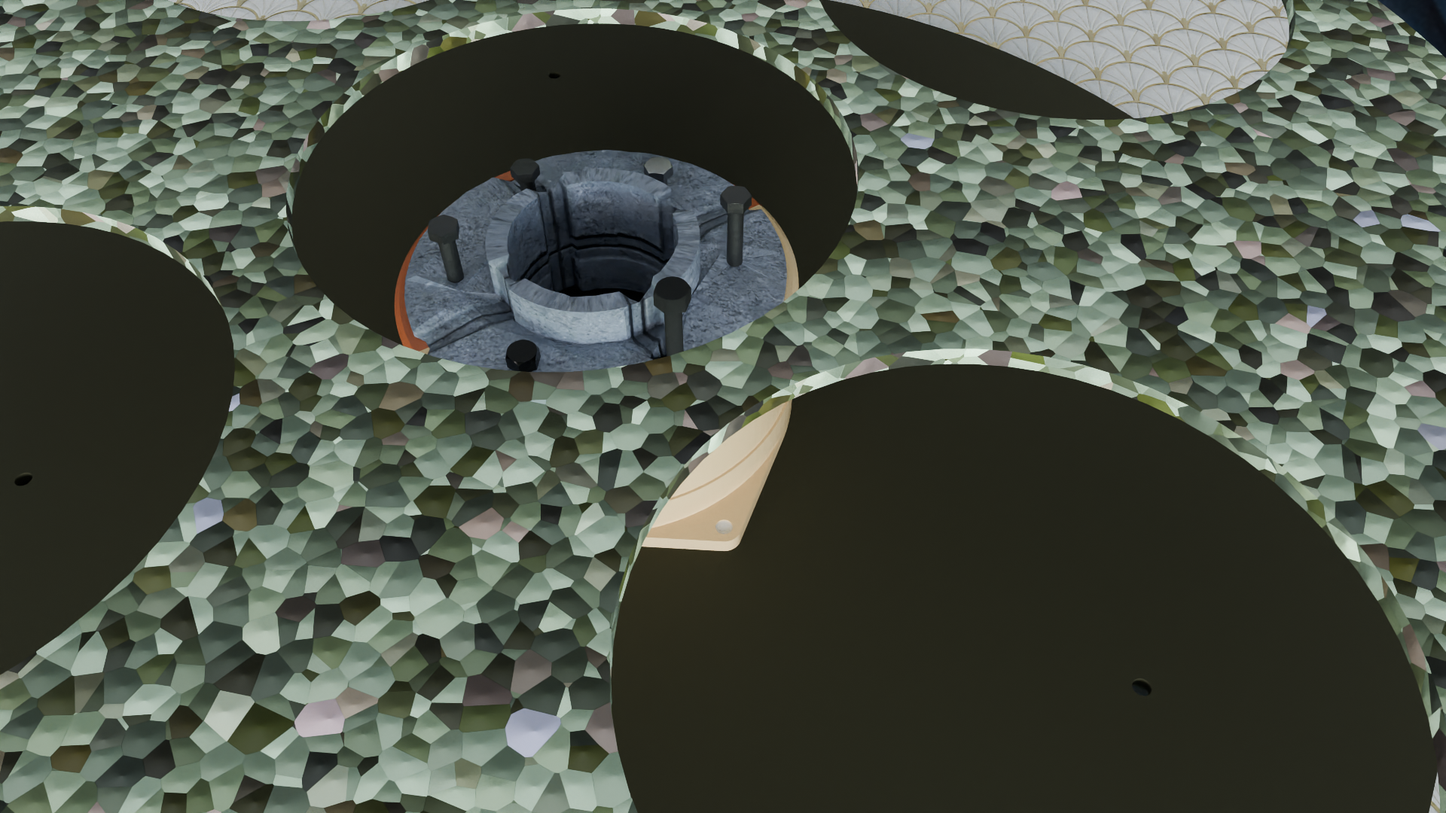bolt: (653, 276, 691, 305), (505, 340, 539, 367), (428, 215, 457, 237), (720, 186, 752, 205), (644, 157, 673, 175), (510, 158, 538, 175)
